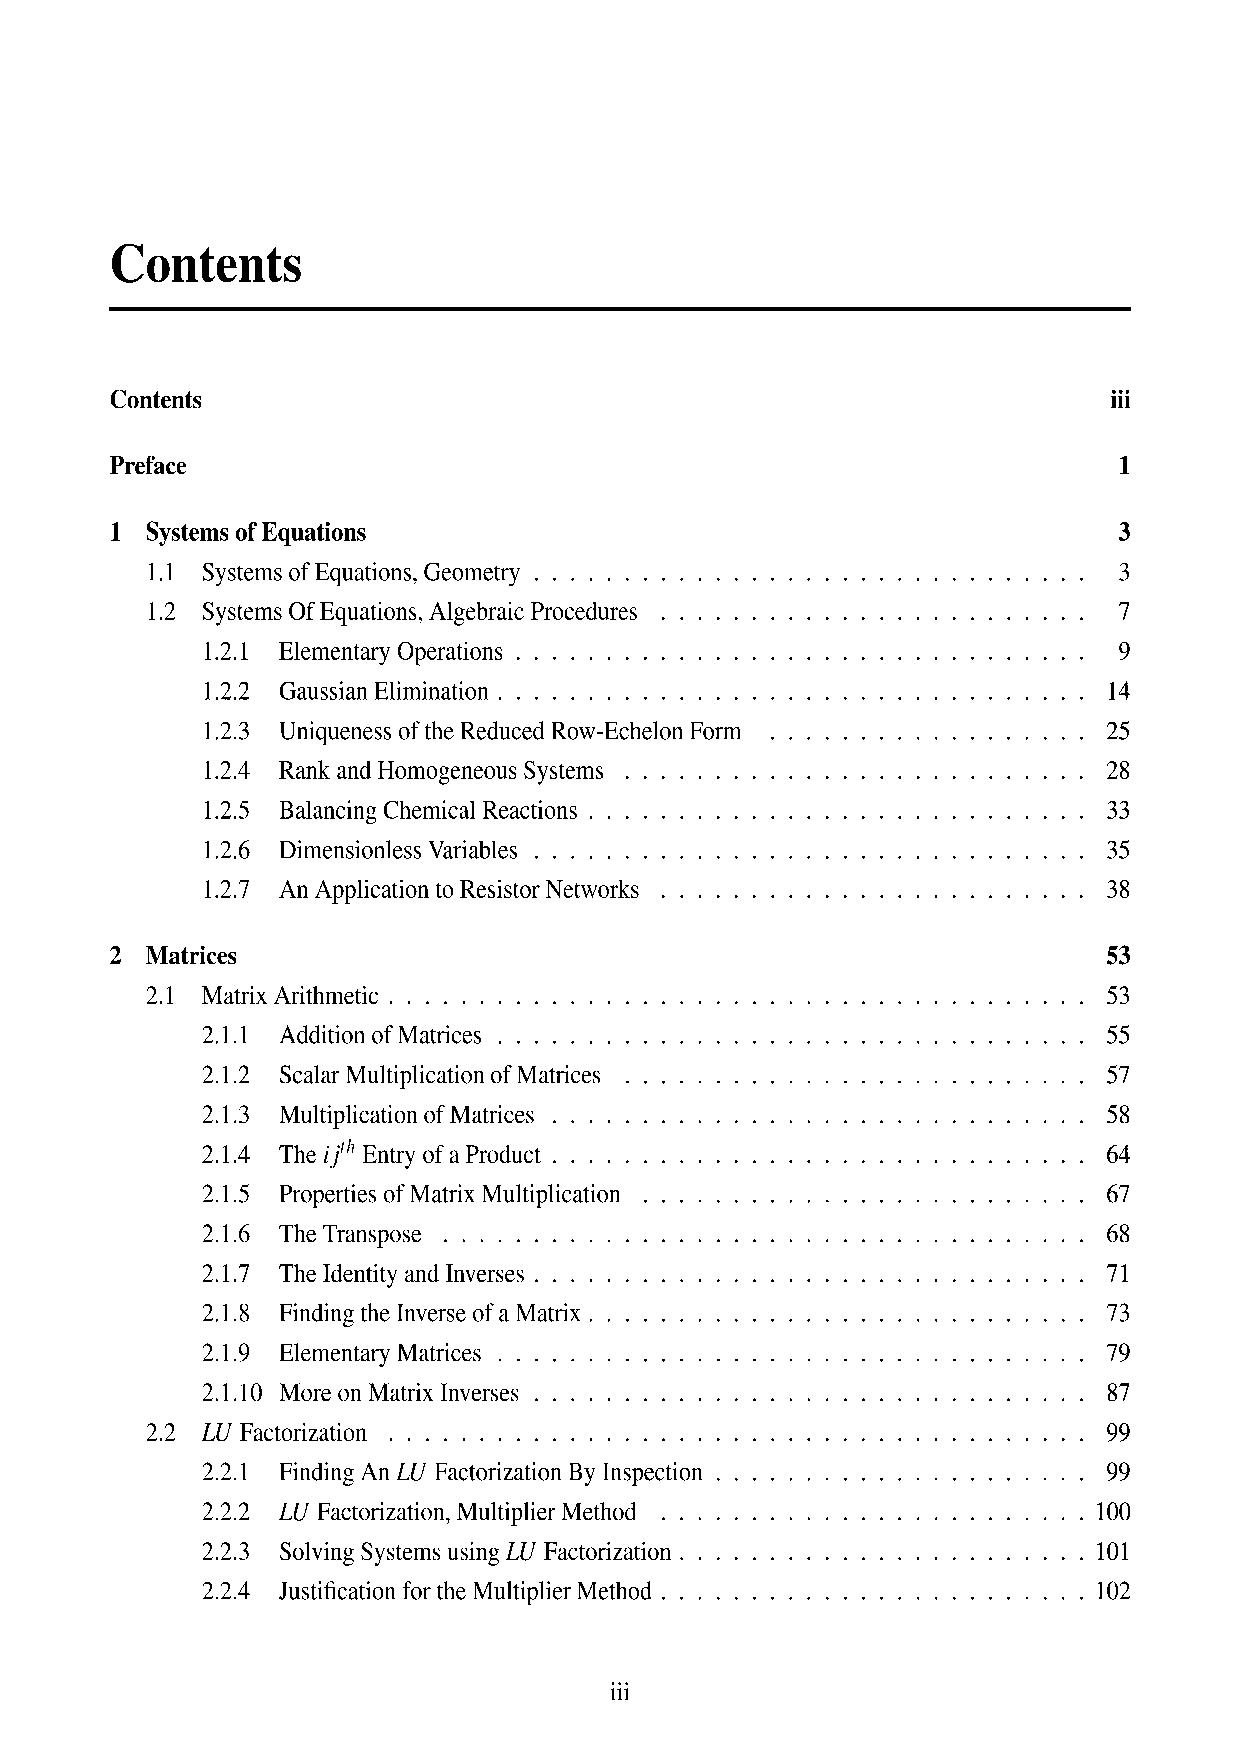TOC_chapter: (146, 599, 637, 627), (203, 874, 641, 905), (199, 1180, 620, 1210), (203, 718, 741, 742), (201, 756, 604, 786), (200, 1580, 654, 1606), (200, 1461, 702, 1486), (201, 1539, 672, 1565), (200, 1499, 637, 1526), (145, 558, 519, 588), (200, 1137, 539, 1168), (201, 1060, 603, 1086), (200, 1300, 581, 1327), (203, 1260, 526, 1290), (199, 1100, 537, 1129), (203, 797, 578, 821), (203, 637, 505, 666), (201, 1380, 519, 1405), (109, 519, 370, 549), (201, 837, 517, 862), (200, 1341, 483, 1368), (200, 1021, 483, 1047), (203, 678, 490, 702), (144, 982, 381, 1007), (200, 1223, 421, 1248), (145, 1420, 366, 1444), (107, 943, 239, 968), (107, 386, 203, 411), (109, 454, 188, 476)
TOC_pagenumber: (1096, 1578, 1130, 1602), (1095, 1500, 1131, 1522), (1095, 1541, 1129, 1562), (1104, 717, 1133, 742), (1104, 982, 1133, 1007), (1113, 517, 1134, 548), (1106, 941, 1131, 966), (1104, 1257, 1129, 1284), (1104, 1420, 1131, 1444), (1103, 1221, 1133, 1243), (1117, 448, 1135, 482), (1106, 678, 1131, 702), (1104, 1100, 1130, 1125), (1104, 1299, 1130, 1323), (1104, 798, 1131, 821), (1104, 878, 1131, 900), (1104, 1062, 1131, 1084), (1104, 1142, 1133, 1164), (1104, 837, 1129, 862), (1104, 1380, 1130, 1402), (1110, 384, 1131, 409), (1104, 760, 1130, 781), (1104, 1181, 1130, 1202), (1104, 1460, 1130, 1482), (1106, 1024, 1133, 1044), (1104, 1341, 1131, 1361), (1115, 639, 1134, 662), (1117, 597, 1131, 621), (1118, 560, 1133, 581)
chapter: (107, 240, 305, 285)
content_pagenumber: (607, 1676, 633, 1702)
